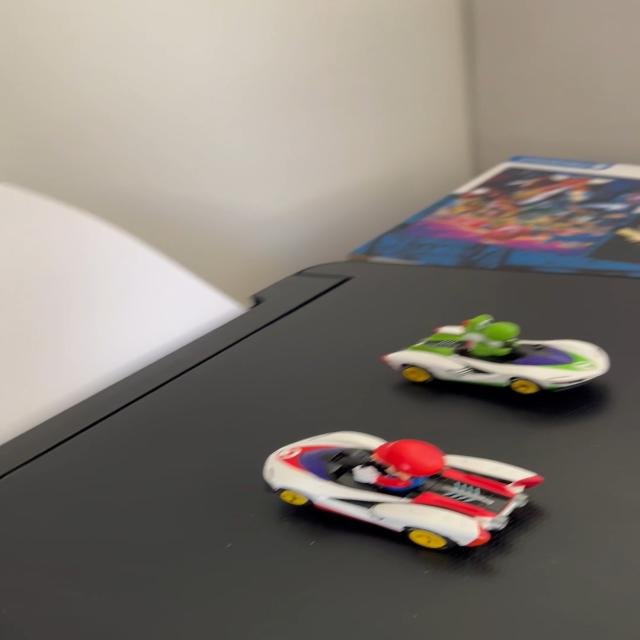mario: (240, 425, 576, 556)
yoshi: (372, 307, 621, 401)
